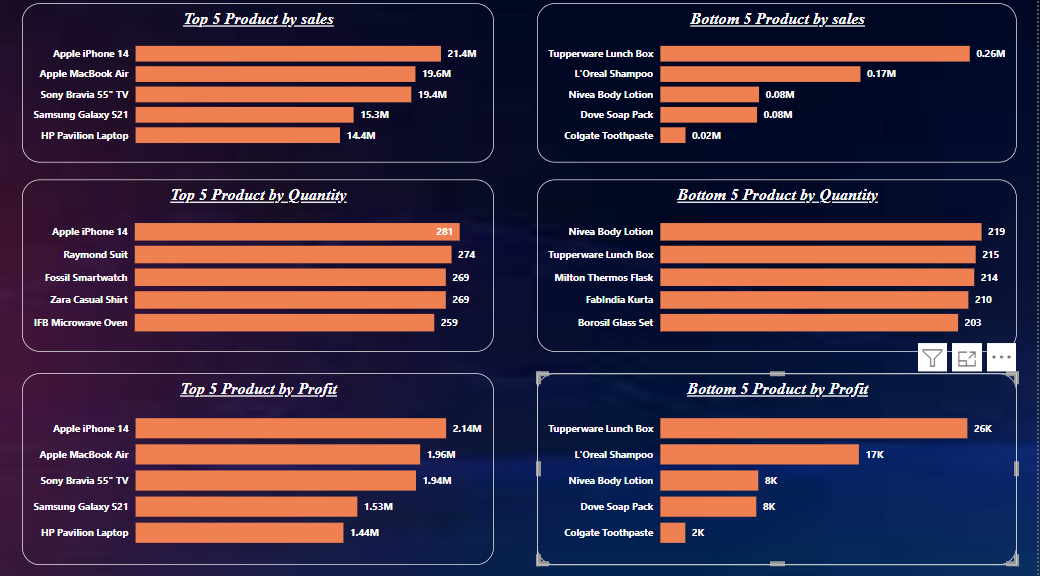

The dashboard page shown, as its layout file describes it:
{"tool":"powerbi","page":{"name":"Top /  Bottom 5 Analysis","canvas":[1280,720],"ordinal":1},"visuals":[{"type":"barChart","title":"Top 5 Product by sales","fields":{"Category":["Dim Product.Product Name"],"Y":["Sum(Fact table.Net sales)"]},"box":[30.9,13.3,580.5,195.9],"z":0},{"type":"barChart","title":"Bottom 5 Product by sales","fields":{"Category":["Dim Product.Product Name"],"Y":["Sum(Fact table.Net sales)"]},"box":[664.5,13.3,590.8,195.9],"z":1000},{"type":"barChart","title":"Top 5 Product by Quantity","fields":{"Category":["Dim Product.Product Name"],"Y":["Sum(Fact table.Units Sold)"]},"box":[30.9,231.3,580.5,212.2],"z":2000},{"type":"barChart","title":"Bottom 5 Product by Quantity","fields":{"Category":["Dim Product.Product Name"],"Y":["Sum(Fact table.Units Sold)"]},"box":[664.5,231.3,590.8,212.2],"z":3000},{"type":"barChart","title":"Top 5 Product by Profit","fields":{"Category":["Dim Product.Product Name"],"Y":["Sum(Fact table.Profit)"]},"box":[30.9,470,580.5,235.7],"z":4000},{"type":"barChart","title":"Bottom 5 Product by Profit","fields":{"Category":["Dim Product.Product Name"],"Y":["Sum(Fact table.Profit)"]},"box":[664.5,470,590.8,235.7],"z":5000}]}

Visuals, with their boxes in screenshot pixels (x1, y1, x2, y2), scaled from the page's 1280x720 canvas onto the 1040x576 screenshot:
"Top 5 Product by sales" barChart: 25/11/497/167
"Bottom 5 Product by sales" barChart: 540/11/1020/167
"Top 5 Product by Quantity" barChart: 25/185/497/355
"Bottom 5 Product by Quantity" barChart: 540/185/1020/355
"Top 5 Product by Profit" barChart: 25/376/497/565
"Bottom 5 Product by Profit" barChart: 540/376/1020/565
